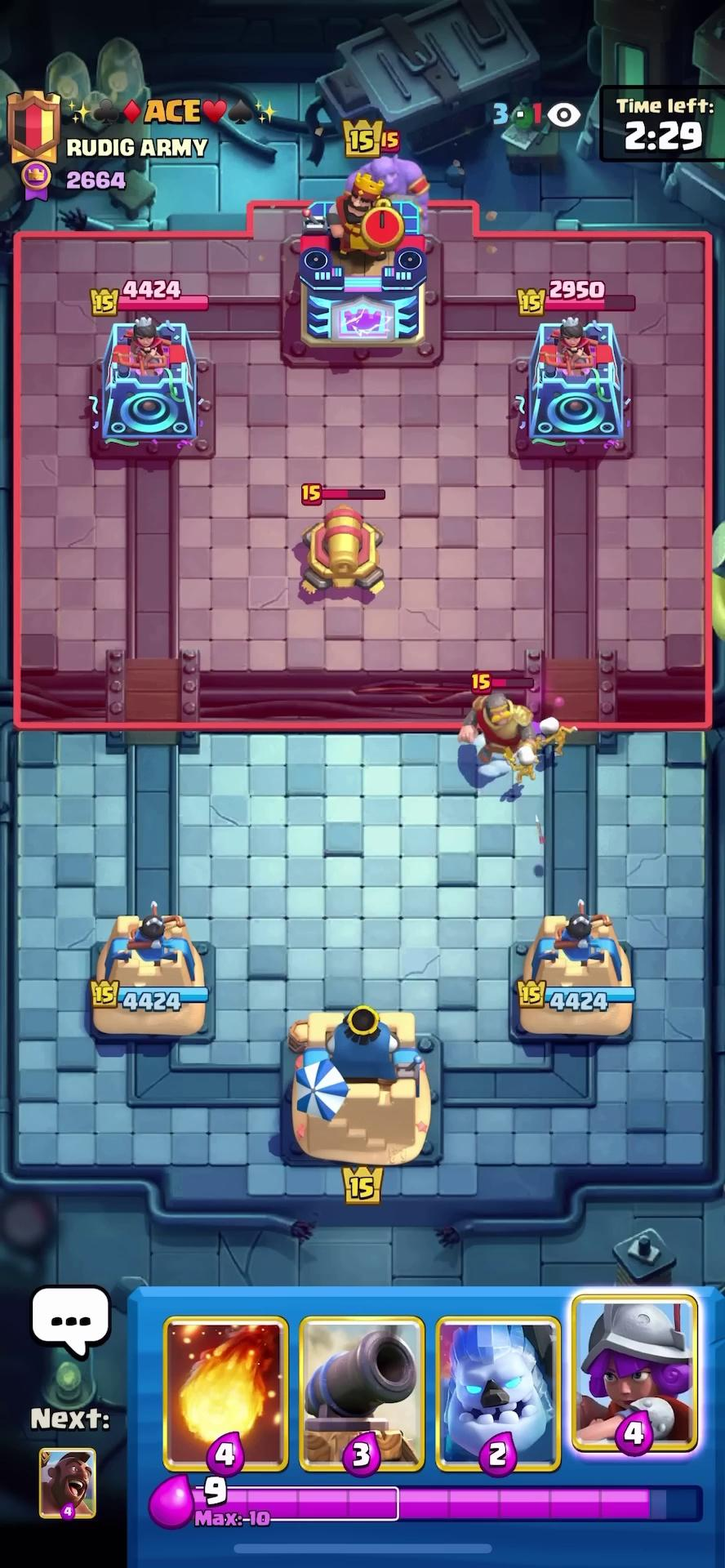skeletons: (514, 715, 565, 788)
